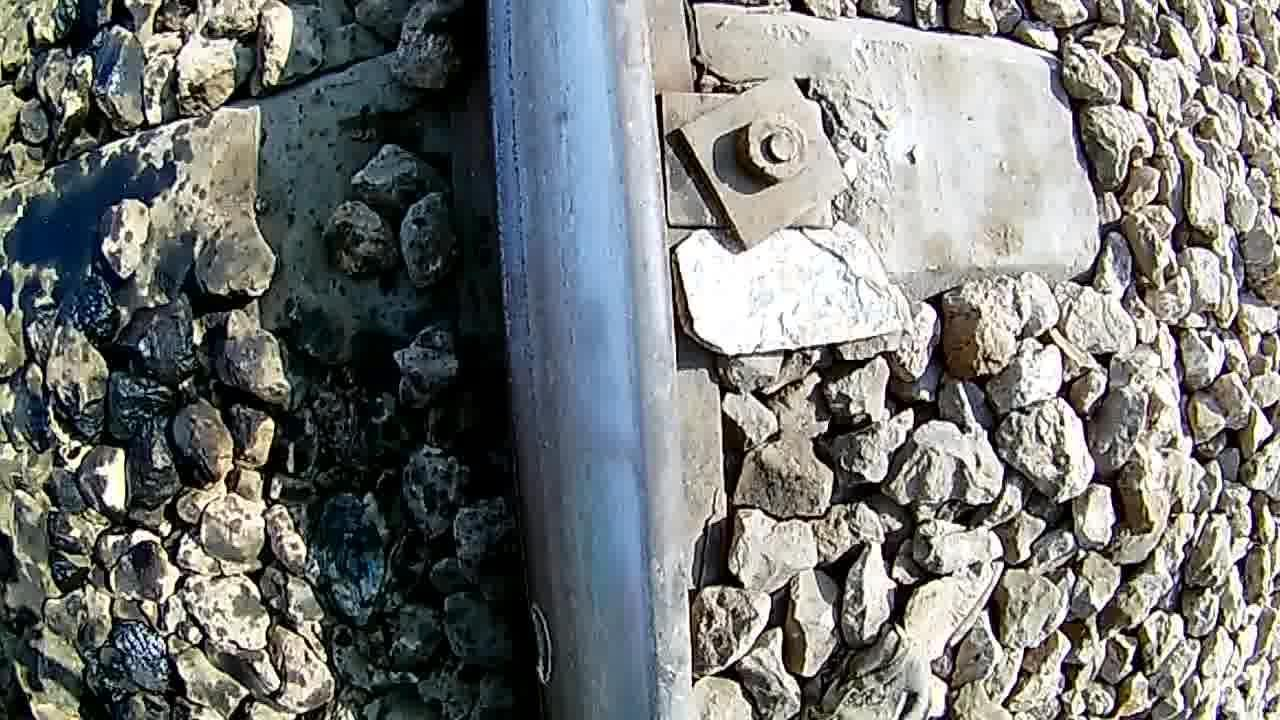crack: (480, 0, 702, 720)
